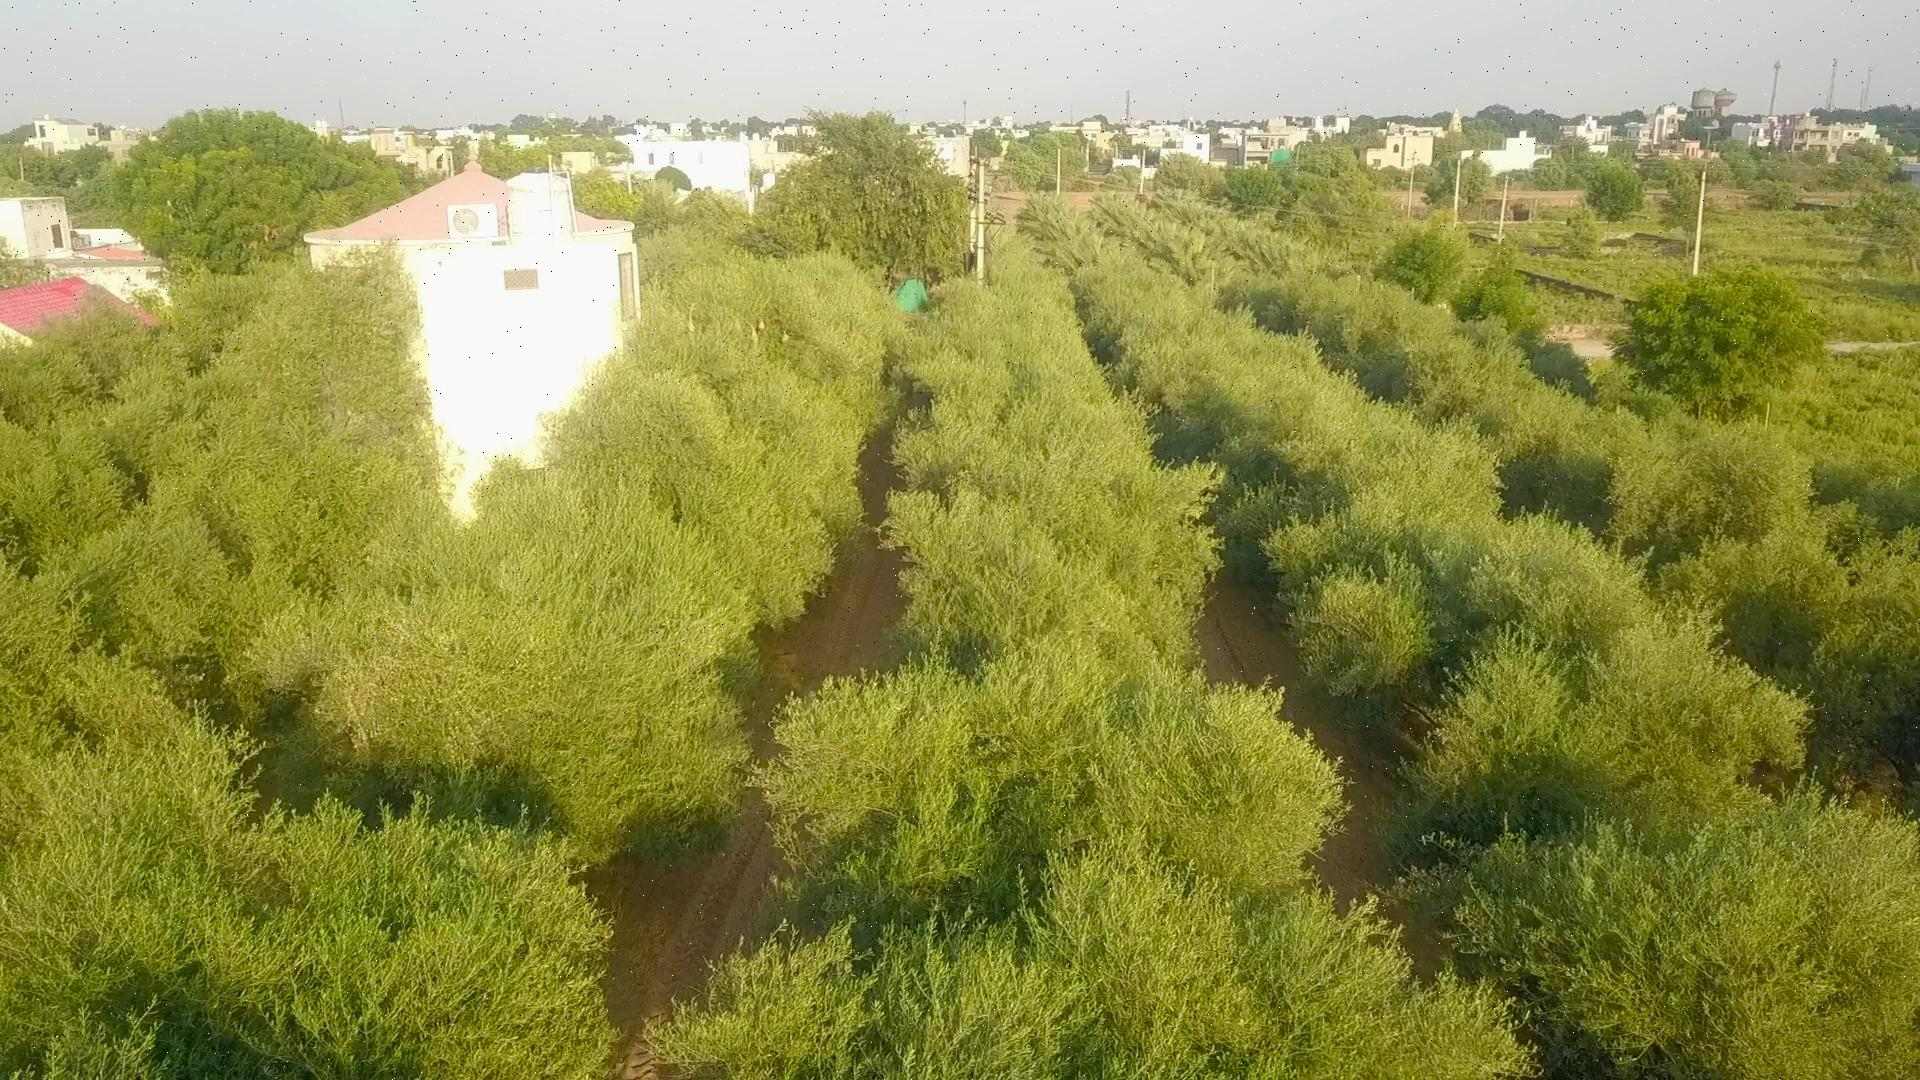canopy: (0, 255, 895, 1079), (658, 255, 1527, 1079), (1069, 245, 1919, 1077), (1023, 203, 1919, 782), (0, 270, 438, 741)
road: (585, 426, 909, 1079), (1193, 570, 1437, 976)
